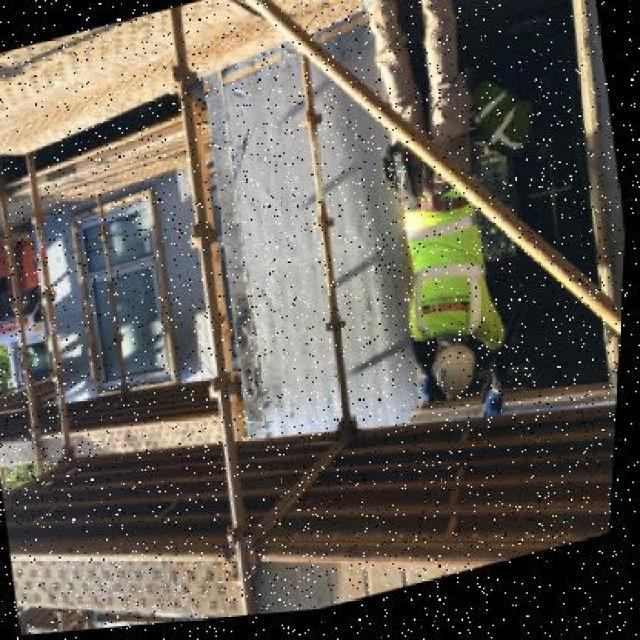helmet: (423, 337, 493, 419)
vest: (386, 171, 503, 367)
